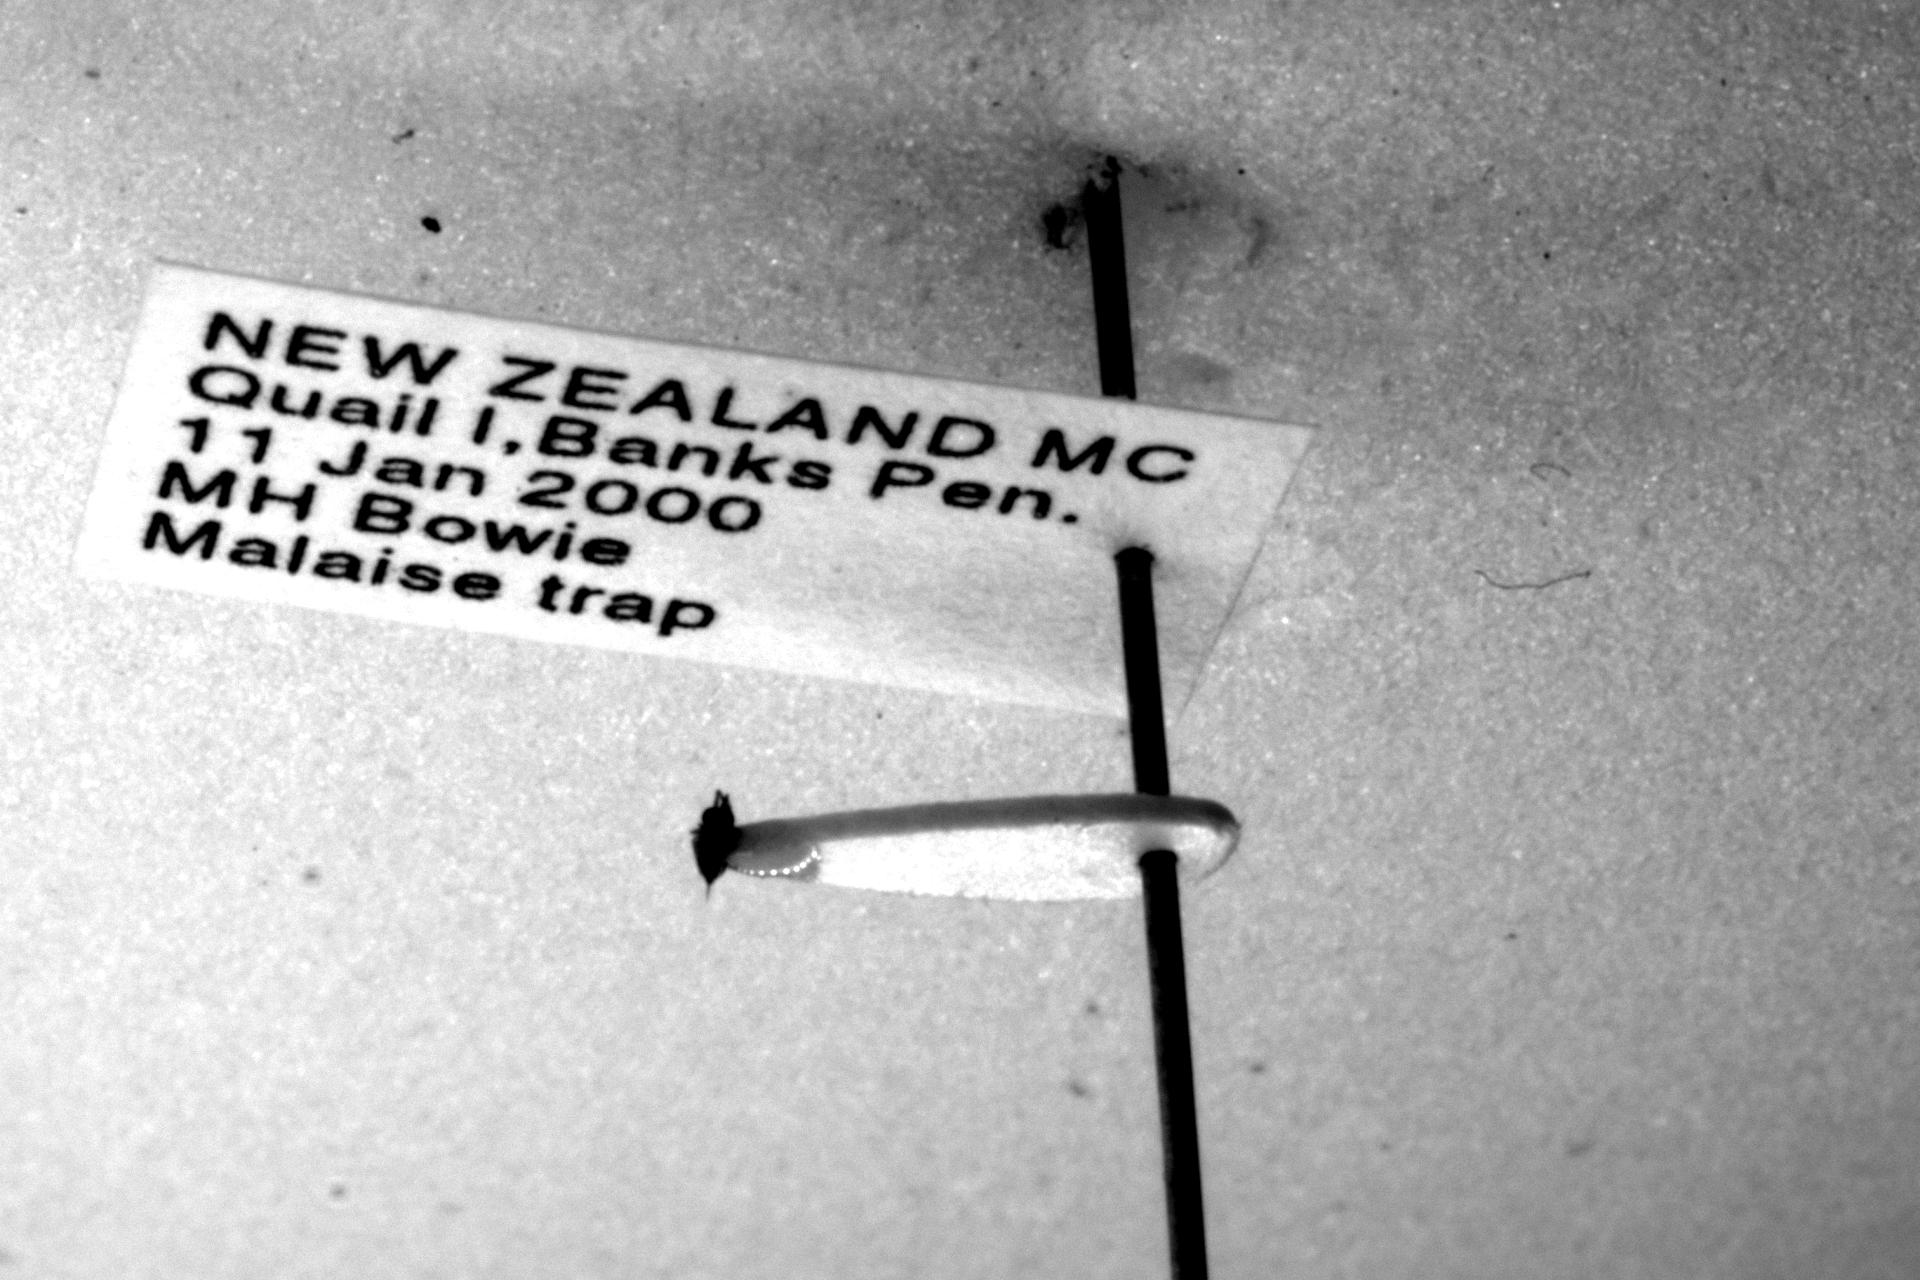typed_label: (74, 263, 1313, 716)
